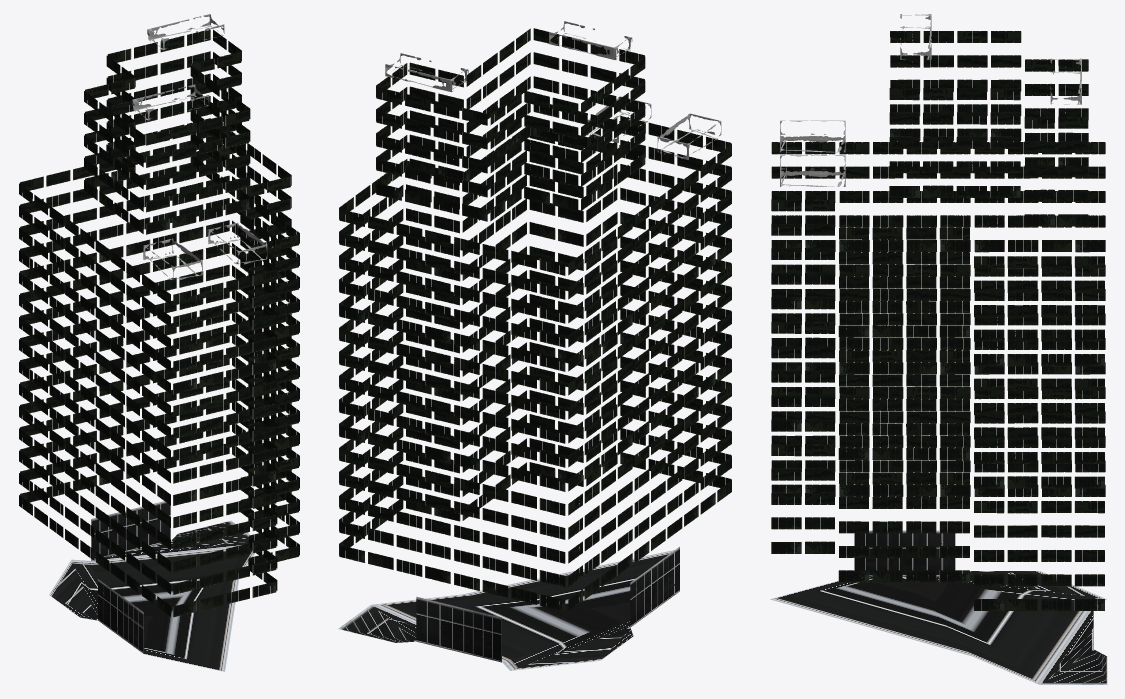
Rendered from si_building_05.fbx.
3 renders of one model, left to right at view 1: azimuth 30°, elevation 25°; view 2: azimuth 150°, elevation 25°; view 3: azimuth 270°, elevation 25°, orthographic. The views are drawn at different scales.
Visible parts, largest first — view 1: si_building_05; view 2: si_building_05; view 3: si_building_05.
Boxes of the visible parts, left/top/right/bottom form: si_building_05: left=19, top=14, right=299, bottom=671; si_building_05: left=338, top=21, right=731, bottom=670; si_building_05: left=770, top=14, right=1107, bottom=684.
Bounding box in the file's own units: 82 × 188 × 102.
1 material, 1 textured.
